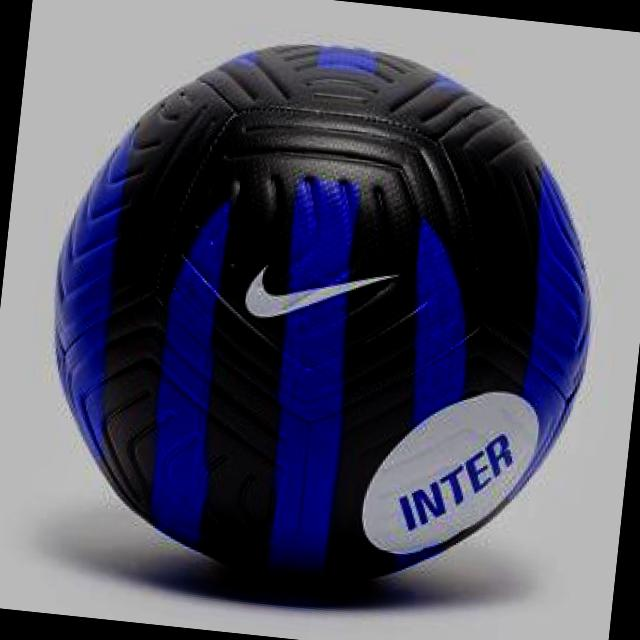ball: (17, 8, 634, 620)
